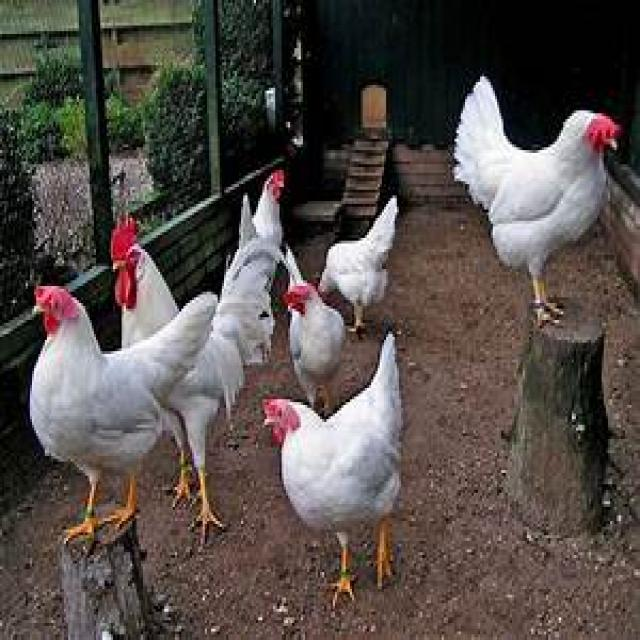animal: (112, 222, 276, 540), (27, 283, 220, 544), (452, 72, 620, 331), (264, 330, 406, 602), (310, 196, 402, 330), (284, 275, 352, 412), (236, 165, 288, 257)
